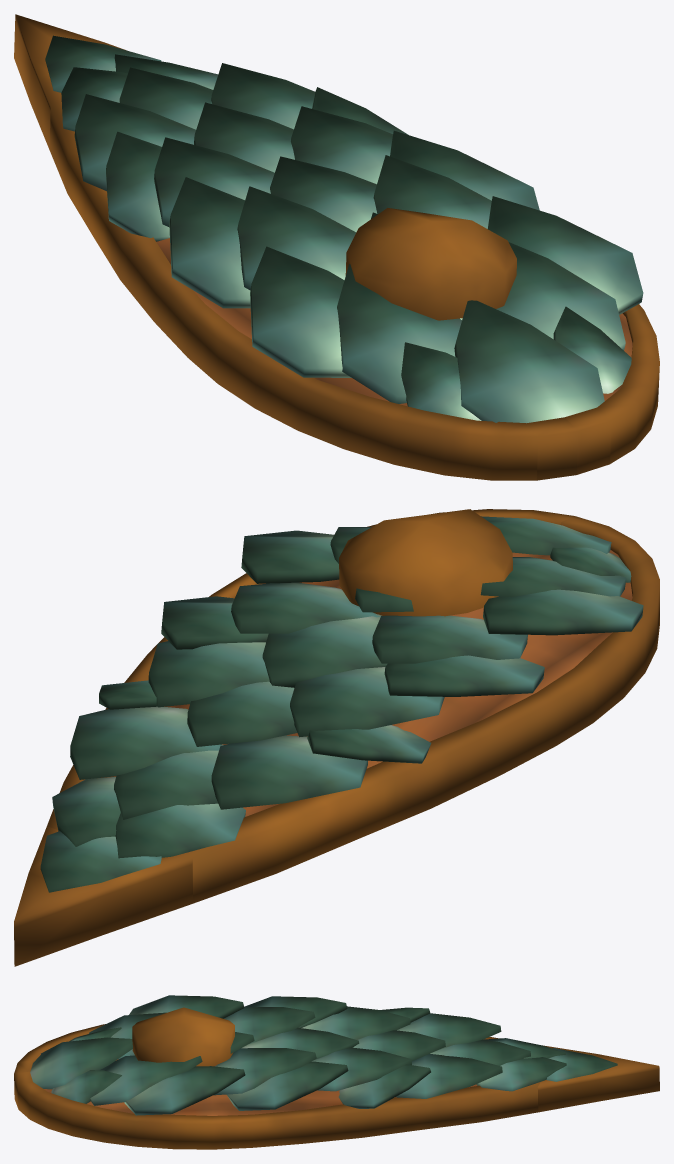
The model's file is ShieldSerpentscale.fbx.
The picture shows the model from 3 angles, top to bottom: view 1: azimuth 30°, elevation 25°; view 2: azimuth 150°, elevation 25°; view 3: azimuth 270°, elevation 25°; orthographic projection. The views are drawn at different scales.
Visible parts, largest first — view 1: model; view 2: model; view 3: model.
Part boxes in pixels (left/top/right/bottom): model: left=14, top=14, right=659, bottom=480; model: left=14, top=509, right=659, bottom=966; model: left=14, top=995, right=659, bottom=1149.
Size of the model in its own units: 0.5659 by 0.2743 by 1.44.
Materials: 1 (1 with a texture image).
